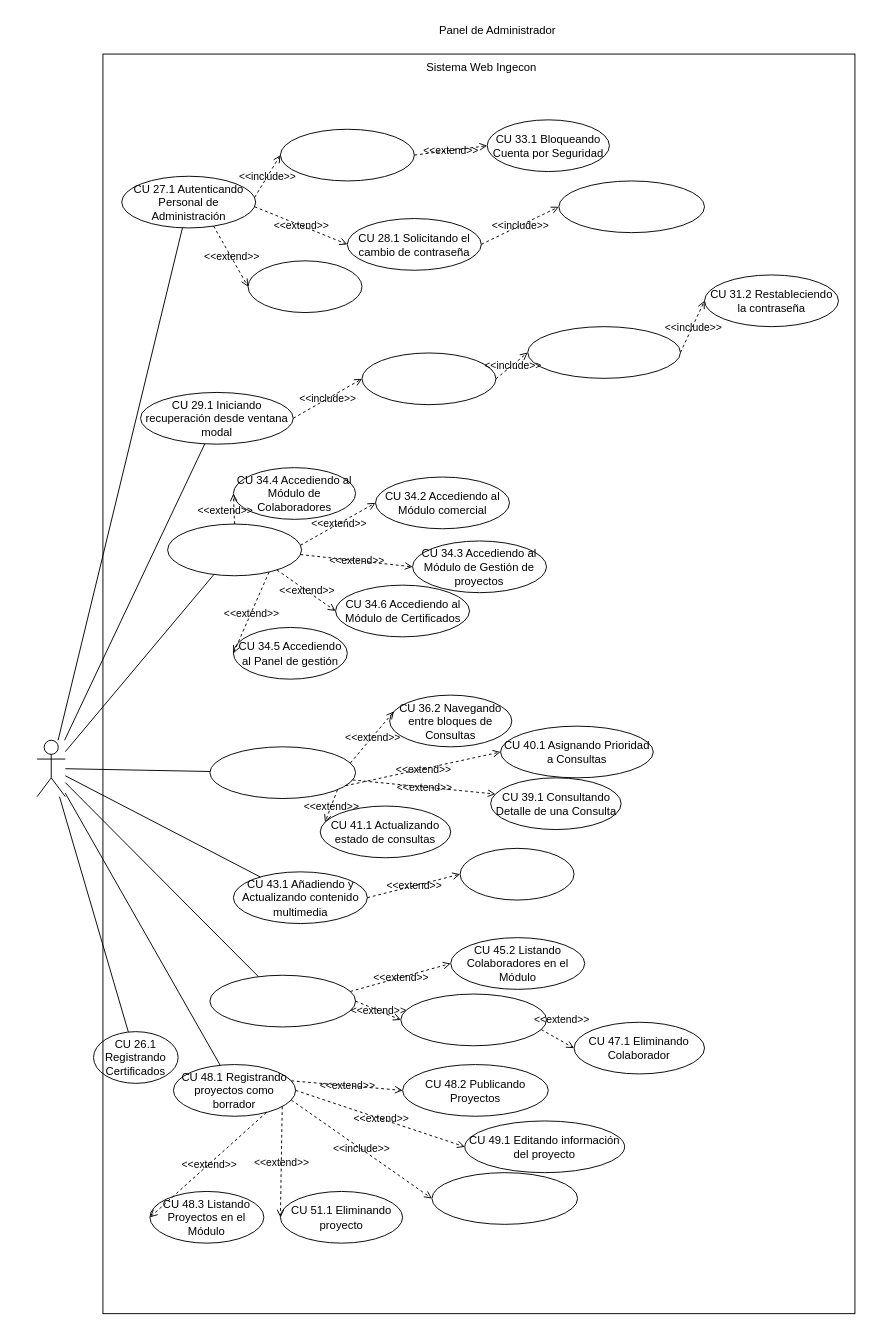
The diagram is 871 pixels wide and 1330 high, and some of its shapes have lost their labels. Here are the shapes that lost their labels. From the top down, the centre of each, then its label:
At point (346, 154): "CU 27.2 Rechazando credenciales incorrectas".
At point (631, 206): "CU 28.2 Confirmando el cambio de contraseña".
At point (304, 286): "CU 32.1 Cerrando Sesión".
At point (603, 352): "CU 31.1 Validando el Enlace seguro de recuperación".
At point (428, 378): "CU 30.1 Enviando enlace seguro de recuperación".
At point (234, 549): "CU 34.1 Navegando por módulos administrativos".
At point (50, 768): "Administrador".
At point (282, 772): "CU 36.1 Listando el primer bloque de Consultas".
At point (516, 873): "CU 44.1 Eliminando Contenido Multimedia".
At point (282, 1000): "CU 45.1 Registrando nuevos Colaboradores".
At point (473, 1019): "CU 46.1 Editando colaboradores".
At point (504, 1198): "CU 50.1 Editando visibilidad del proyecto".
